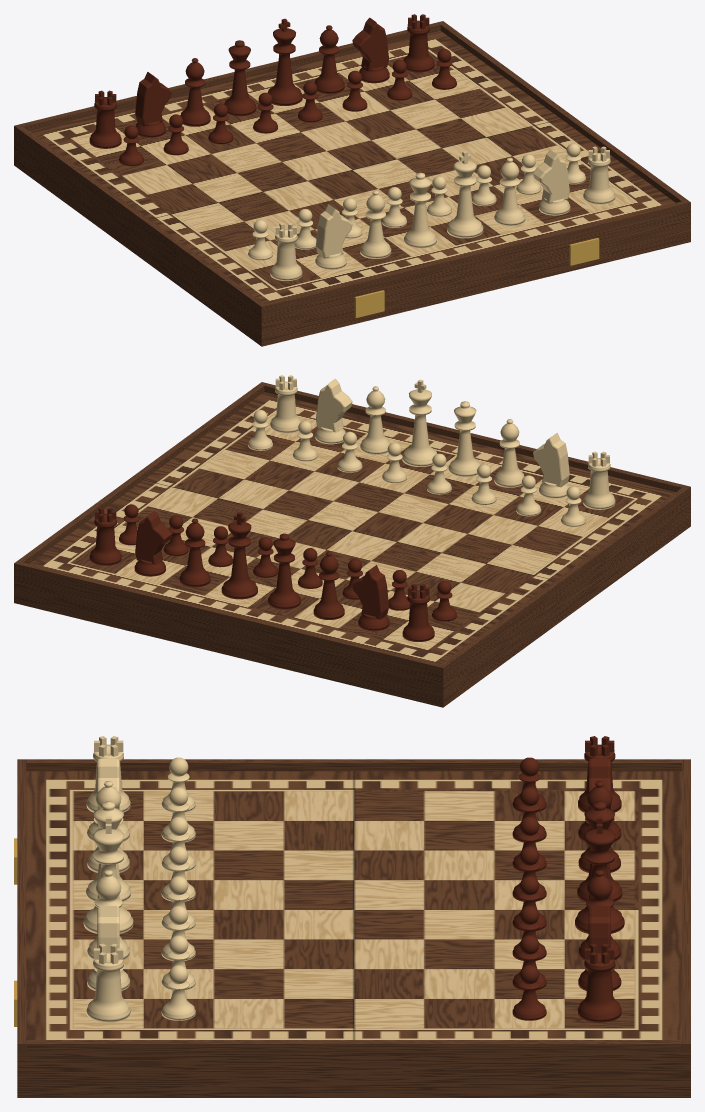
Rendered from philidor-3d-noyer-pliable-24-v2.glb.
The picture shows the model from 3 angles, top to bottom: view 1: azimuth 30°, elevation 25°; view 2: azimuth 150°, elevation 25°; view 3: azimuth 270°, elevation 25°; orthographic projection. The views are drawn at different scales.
Visible parts, largest first — view 1: noyer-pliable-24; view 2: noyer-pliable-24; view 3: noyer-pliable-24.
Boxes of the visible parts, x1,y1,x2,y2 form: noyer-pliable-24: (14, 14, 690, 346); noyer-pliable-24: (14, 375, 690, 707); noyer-pliable-24: (14, 736, 690, 1097).
Size of what is drawn, in the model's own units: 0.24 by 0.06 by 0.2412.
Materials: 5 (2 with a texture image).
